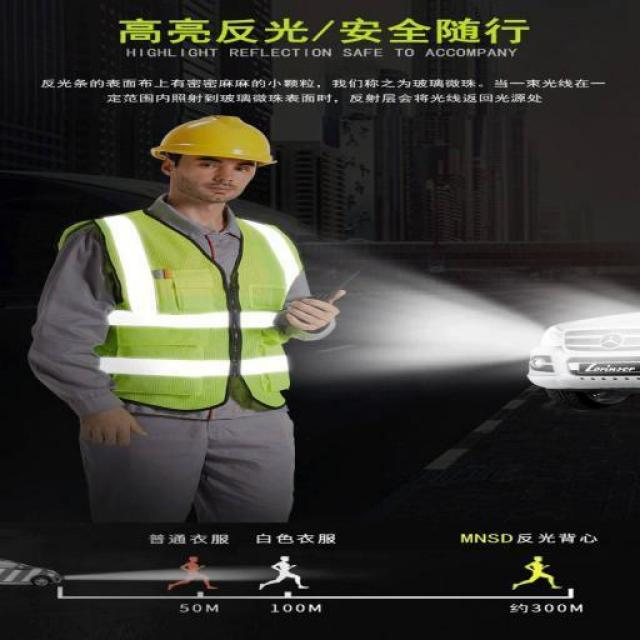vest: (96, 201, 294, 415)
